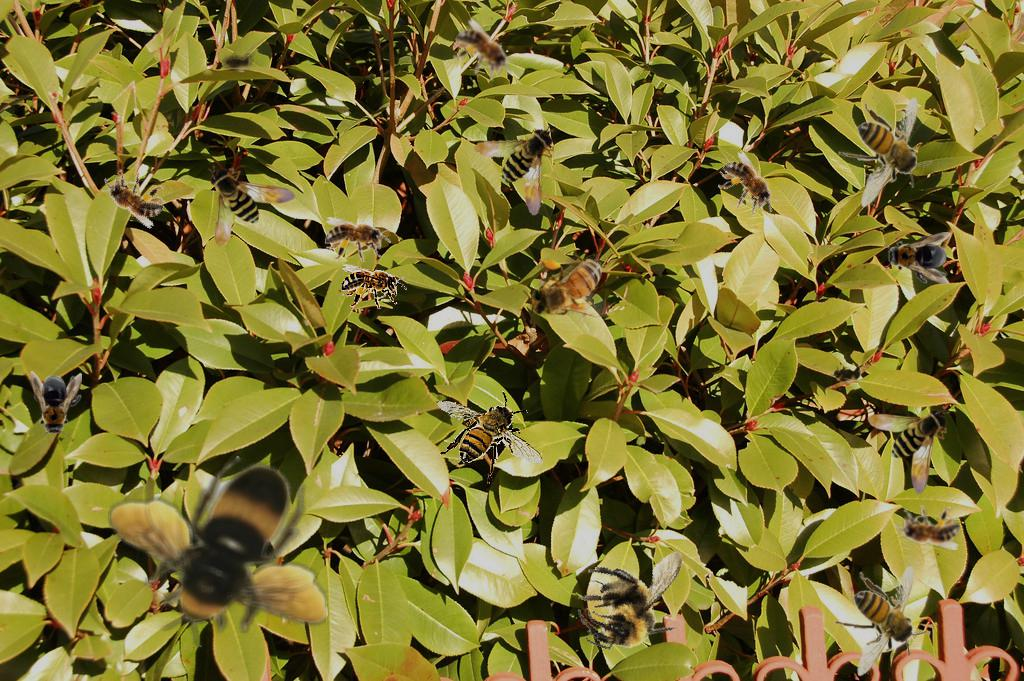Bee: (108, 456, 328, 647), (565, 526, 704, 669), (431, 386, 550, 488), (834, 566, 928, 677), (838, 97, 932, 208), (472, 124, 566, 224), (868, 407, 950, 495), (208, 165, 296, 247), (521, 252, 617, 325), (709, 148, 789, 227), (444, 16, 524, 91), (93, 160, 173, 231), (883, 232, 951, 284), (30, 371, 82, 439), (894, 505, 960, 550), (325, 217, 391, 262), (341, 264, 407, 309), (217, 51, 257, 73), (827, 363, 867, 385)
